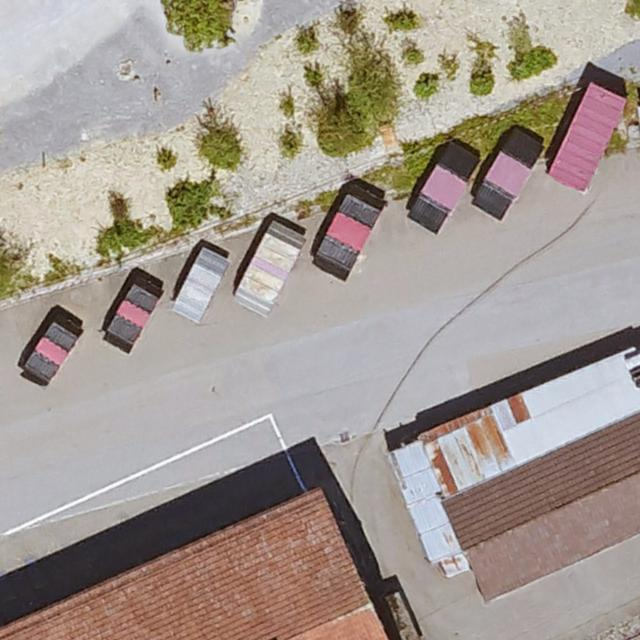tree: (163, 0, 233, 49), (196, 126, 244, 168)
